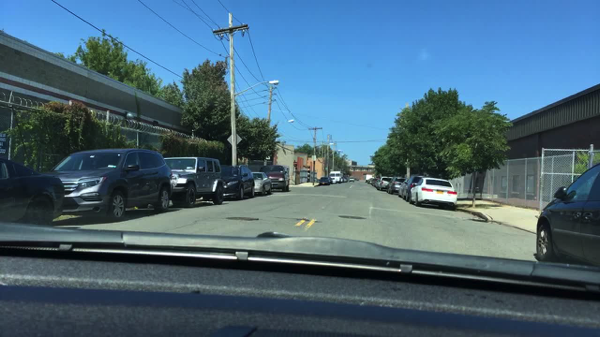bus: (328, 171, 340, 182), (364, 174, 372, 183)
car: (46, 147, 173, 221), (535, 162, 599, 263), (0, 158, 66, 225), (163, 156, 224, 205), (409, 176, 456, 209), (220, 164, 255, 200), (259, 164, 288, 192), (401, 176, 429, 201), (250, 169, 272, 195), (385, 176, 407, 194), (396, 176, 412, 197), (376, 177, 392, 191), (317, 176, 331, 186), (374, 177, 386, 188), (370, 178, 380, 185), (366, 177, 375, 184), (347, 176, 354, 182), (338, 174, 343, 182), (343, 175, 348, 182)
traffic sign: (227, 132, 242, 146), (311, 155, 316, 162)
